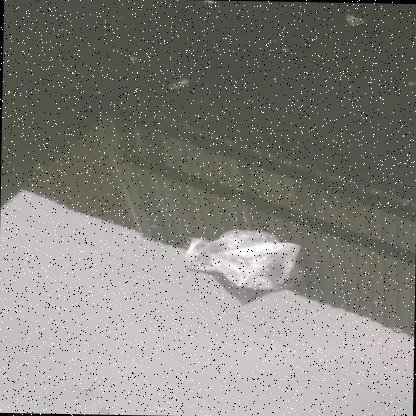Plastic film: (182, 228, 300, 289)
